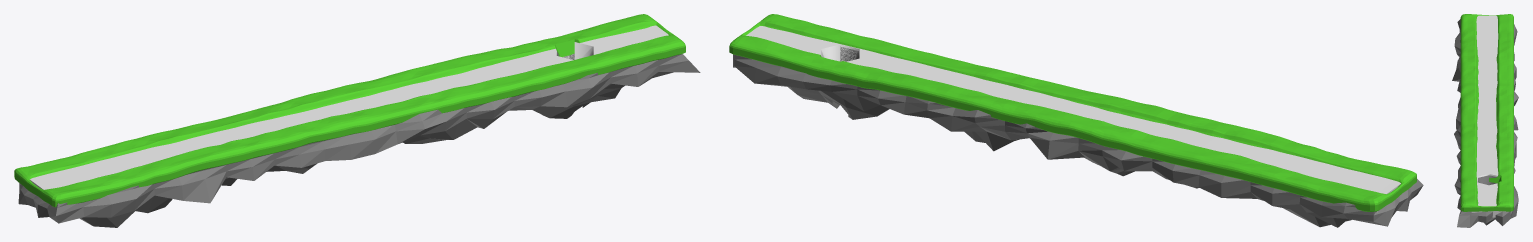
Rendered from SnowIsland_Part_03 1.fbx.
3 renders of one model, left to right at view 1: azimuth 30°, elevation 25°; view 2: azimuth 150°, elevation 25°; view 3: azimuth 270°, elevation 25°, orthographic. The views are drawn at different scales.
Visible parts, largest first — view 1: Box038, Box037, Box039; view 2: Box038, Box037, Box039; view 3: Box038, Box039, Box037.
Part boxes in pixels (x1,y1,x2,y2): Box038: (14,14,685,207); Box037: (18,51,700,227); Box039: (20,25,668,189); Box038: (729,14,1416,211); Box037: (733,46,1423,227); Box039: (746,26,1400,213); Box038: (1460,14,1513,211); Box039: (1471,15,1505,217); Box037: (1452,19,1518,227).
Size of the model in its own units: 540 by 54.88 by 77.34.
